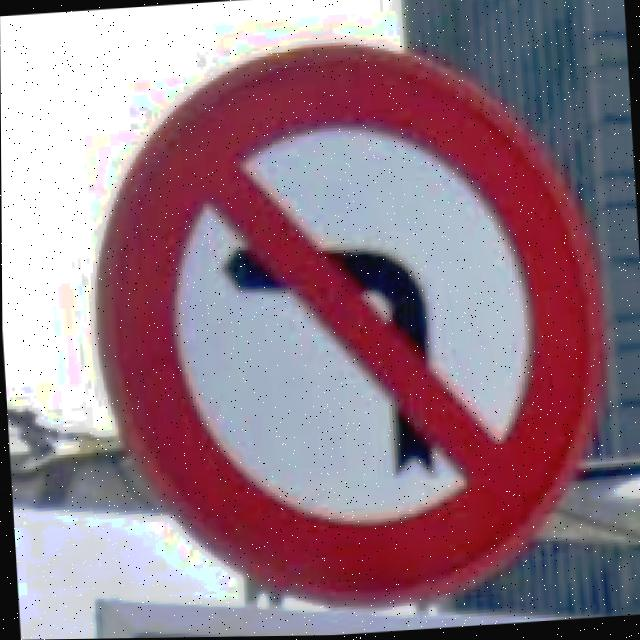noturnleft: (94, 49, 609, 611)
